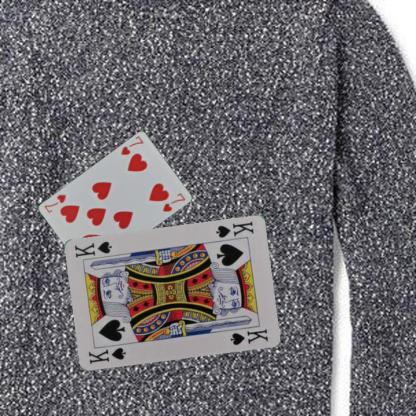7h: (118, 134, 144, 156)
Ks: (86, 345, 127, 366), (213, 219, 255, 239)
